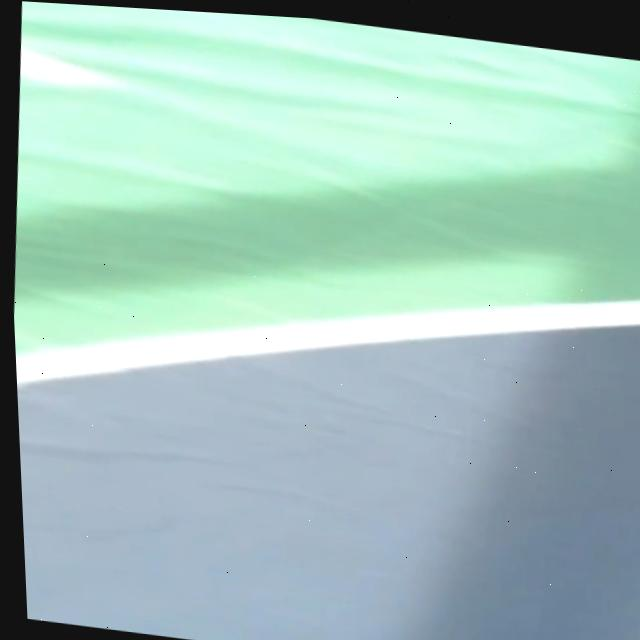right: (16, 300, 640, 383)
